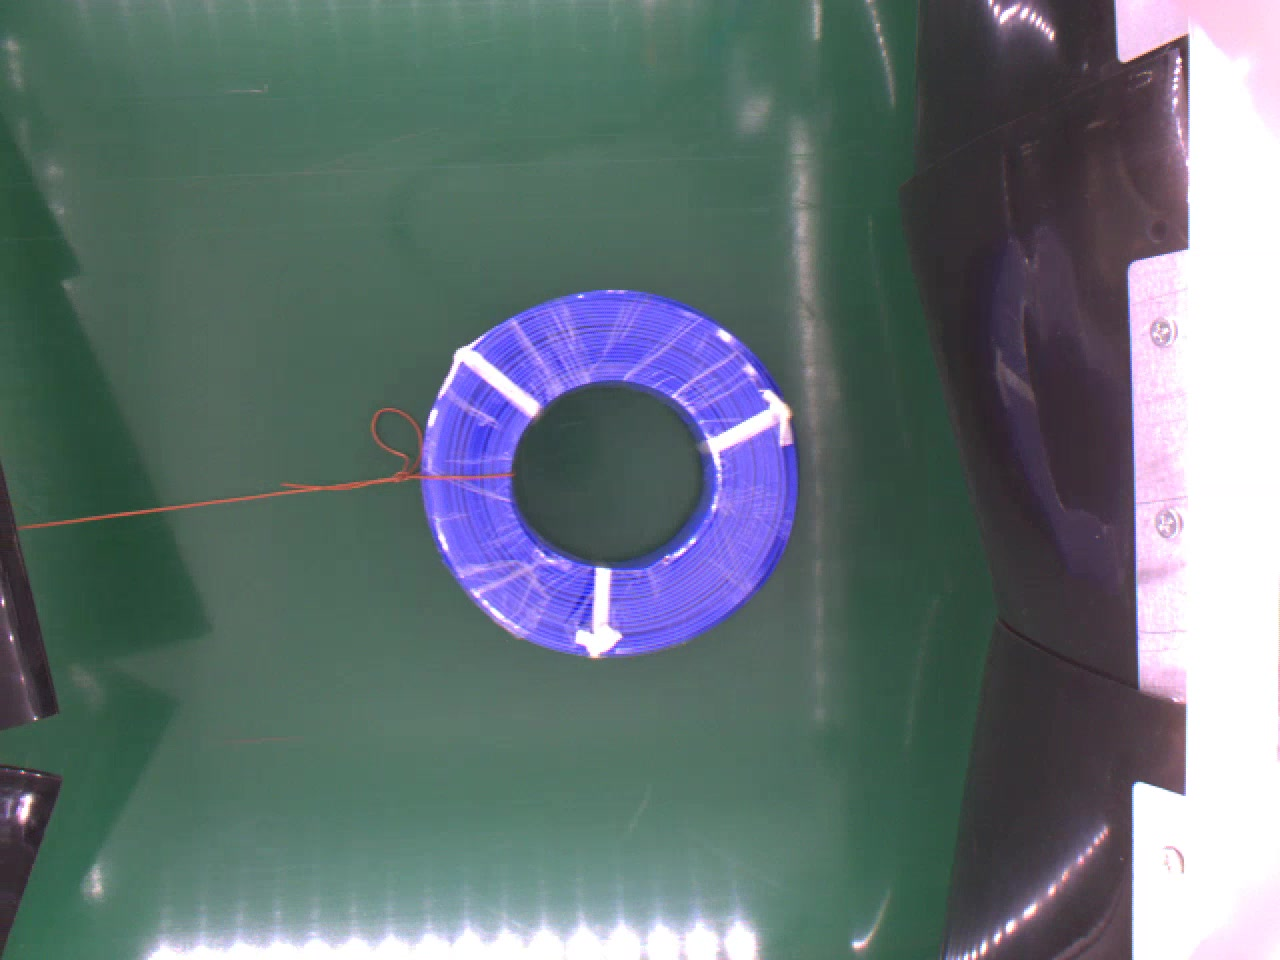blue: (424, 286, 804, 656)
